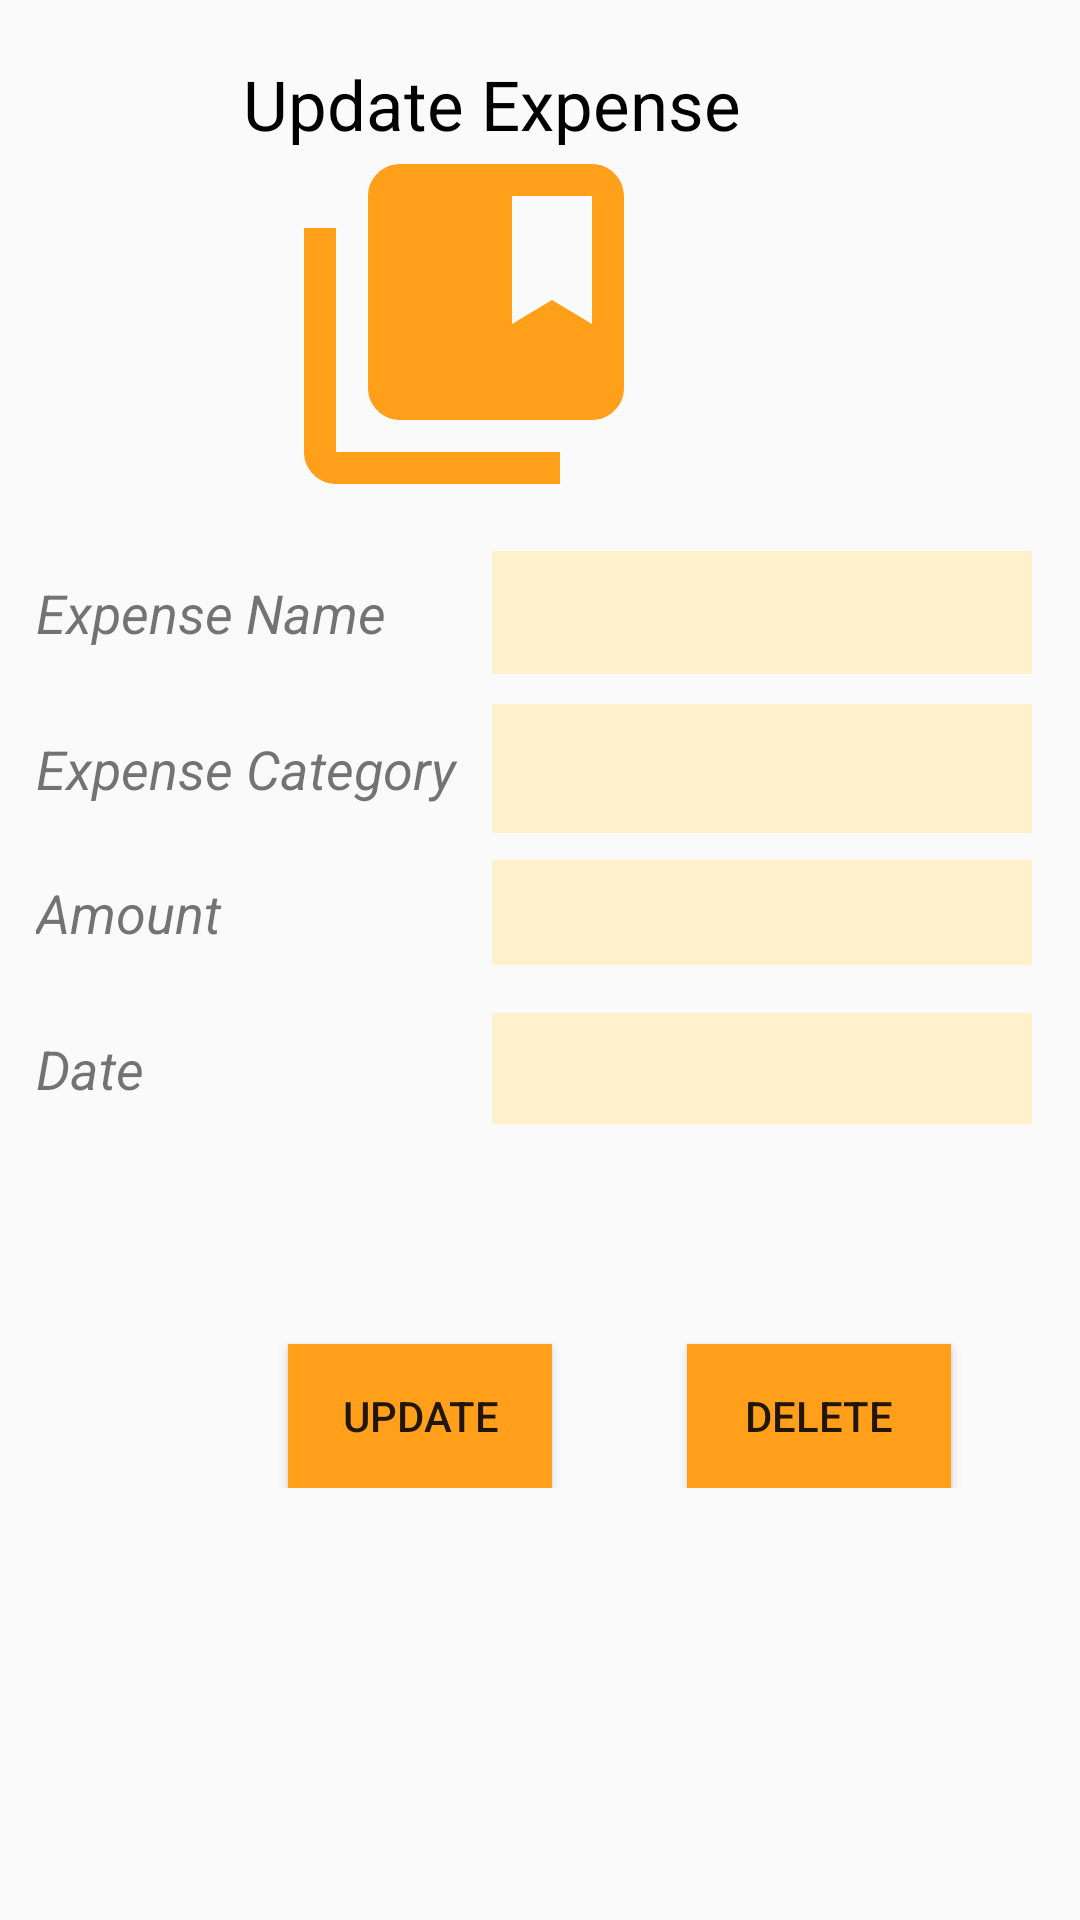

Icons on this 1080px×1920px Android screen, each with the point to tap as (x,y):
collections bookmark: (464,324)
